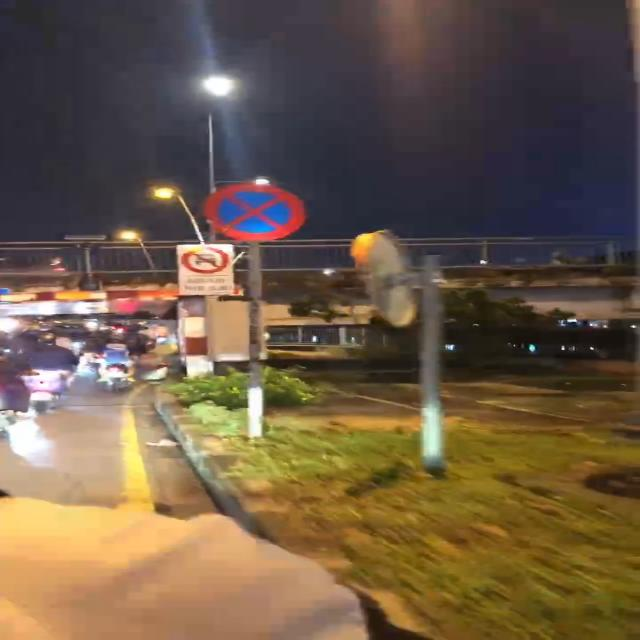Bien bao cam dung xe va do xe: (191, 179, 308, 241)
Bien bao cam xe oto: (179, 243, 241, 276)
